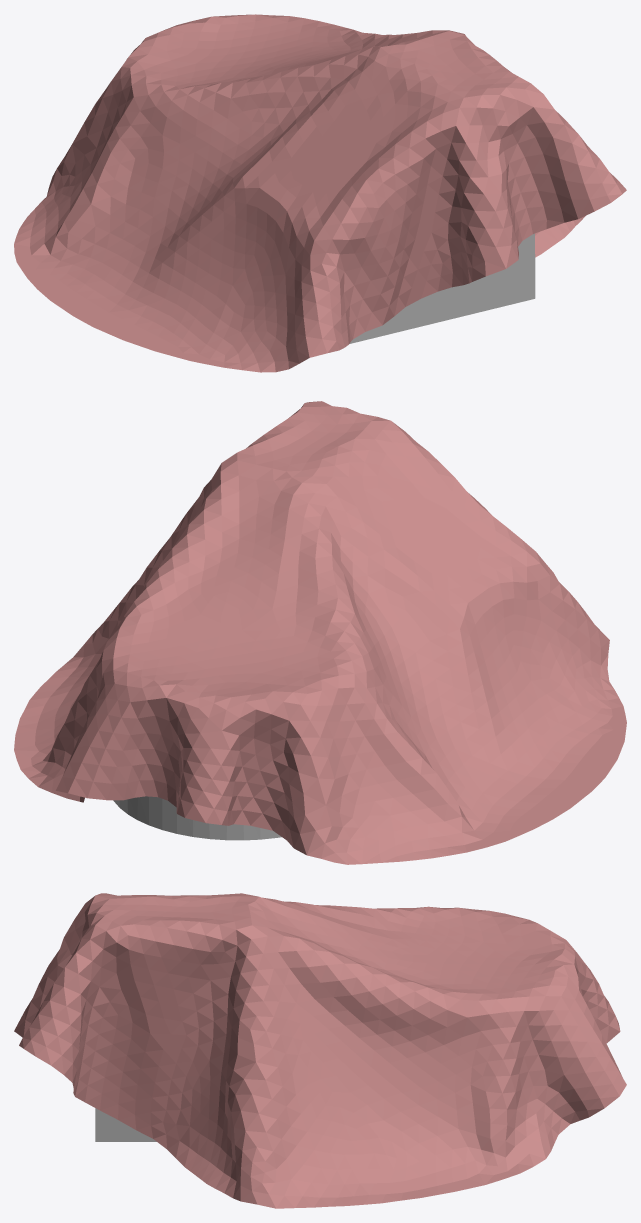
The model's file is level_1.glb.
The picture shows the model from 3 angles, top to bottom: view 1: azimuth 30°, elevation 25°; view 2: azimuth 150°, elevation 25°; view 3: azimuth 270°, elevation 25°; orthographic projection. The views are drawn at different scales.
Parts seen in each view (by area): view 1: world, object.obj; view 2: world, object.obj; view 3: world, object.obj.
Part boxes in pixels (x1,y1,x2,y2): world: (14,14,626,372); object.obj: (349,233,535,343); world: (14,401,626,864); object.obj: (113,796,281,840); world: (14,893,626,1208); object.obj: (95,1108,156,1141).
Bounding box in the file's own units: 0.4699 × 0.1926 × 0.4974.
